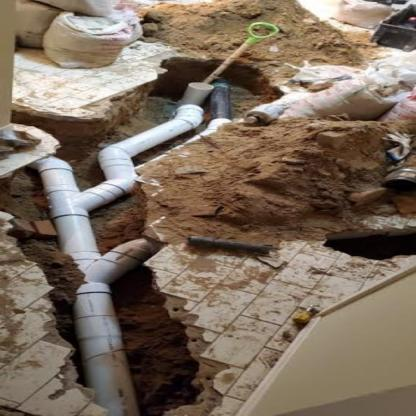PVC: (25, 103, 202, 415)
